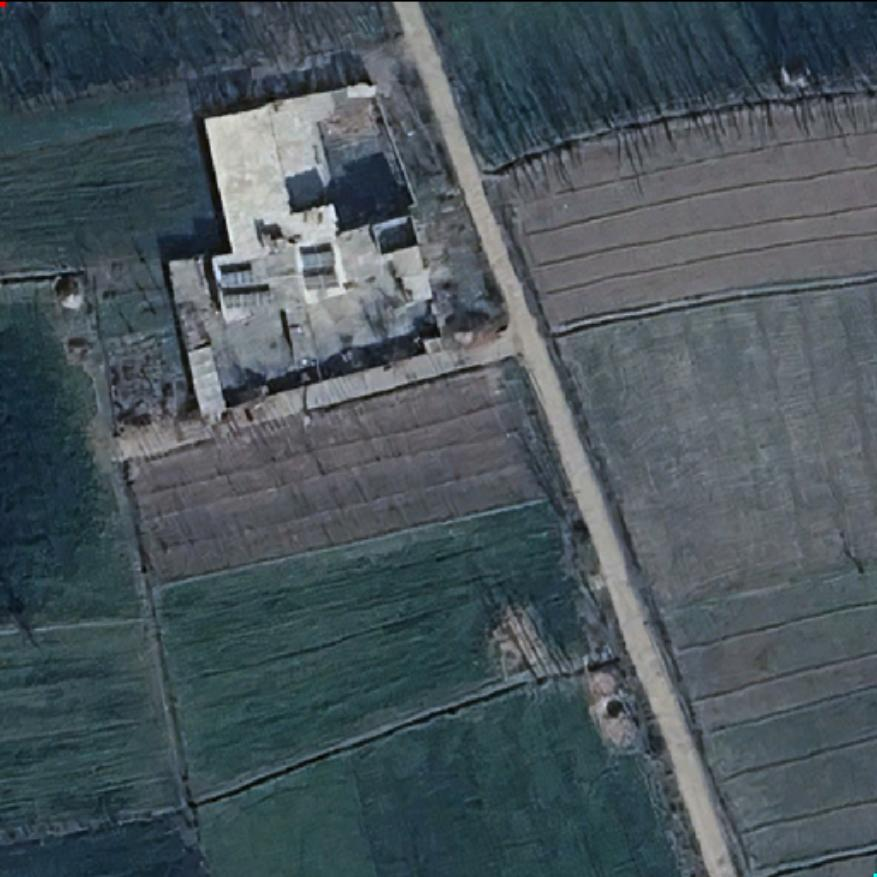Solarpanel: (296, 248, 342, 292), (220, 288, 272, 310), (216, 267, 256, 287)
